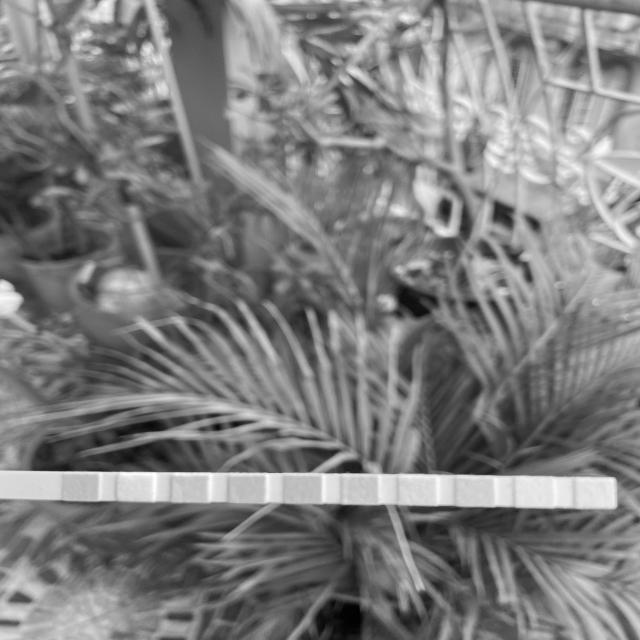Bilirubin: (120, 473, 154, 501)
Blood: (285, 474, 321, 504)
Glucose: (64, 474, 99, 501)
Ketone: (172, 474, 208, 503)
Leukocytes: (576, 478, 614, 507)
Nitrite: (515, 476, 553, 507)
Protein: (399, 475, 436, 505)
SpGravity: (230, 473, 265, 503)
Urobilinogen: (456, 476, 494, 506)
background: (0, 0, 640, 640)
pH: (342, 474, 379, 504)
strip: (13, 471, 617, 509)
